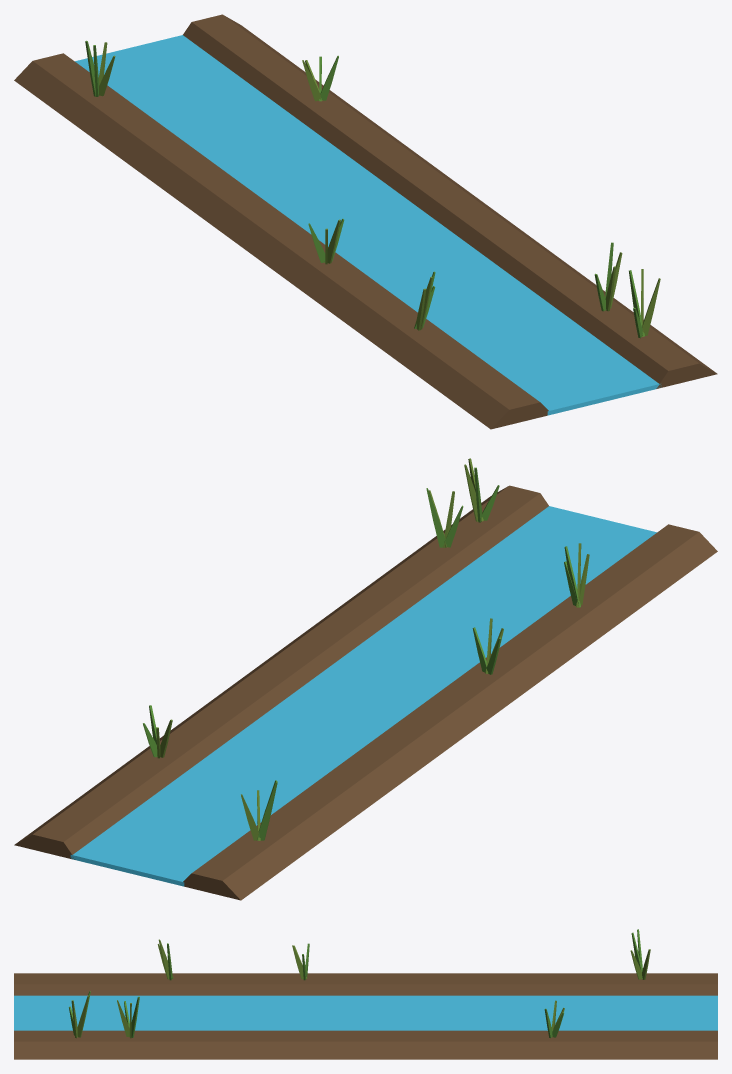
Rendered from desert_canal.glb.
3 renders of one model, top to bottom at view 1: azimuth 30°, elevation 25°; view 2: azimuth 150°, elevation 25°; view 3: azimuth 270°, elevation 25°, orthographic. The views are drawn at different scales.
Parts seen in each view (by area): view 1: desert_canal; view 2: desert_canal; view 3: desert_canal.
Part boxes in pixels (box(x1,y1,x2,y2)): desert_canal: box(14, 14, 717, 429); desert_canal: box(14, 458, 717, 900); desert_canal: box(14, 929, 717, 1059).
Bounding box in the file's own units: 2.2 × 0.6926 × 8.
